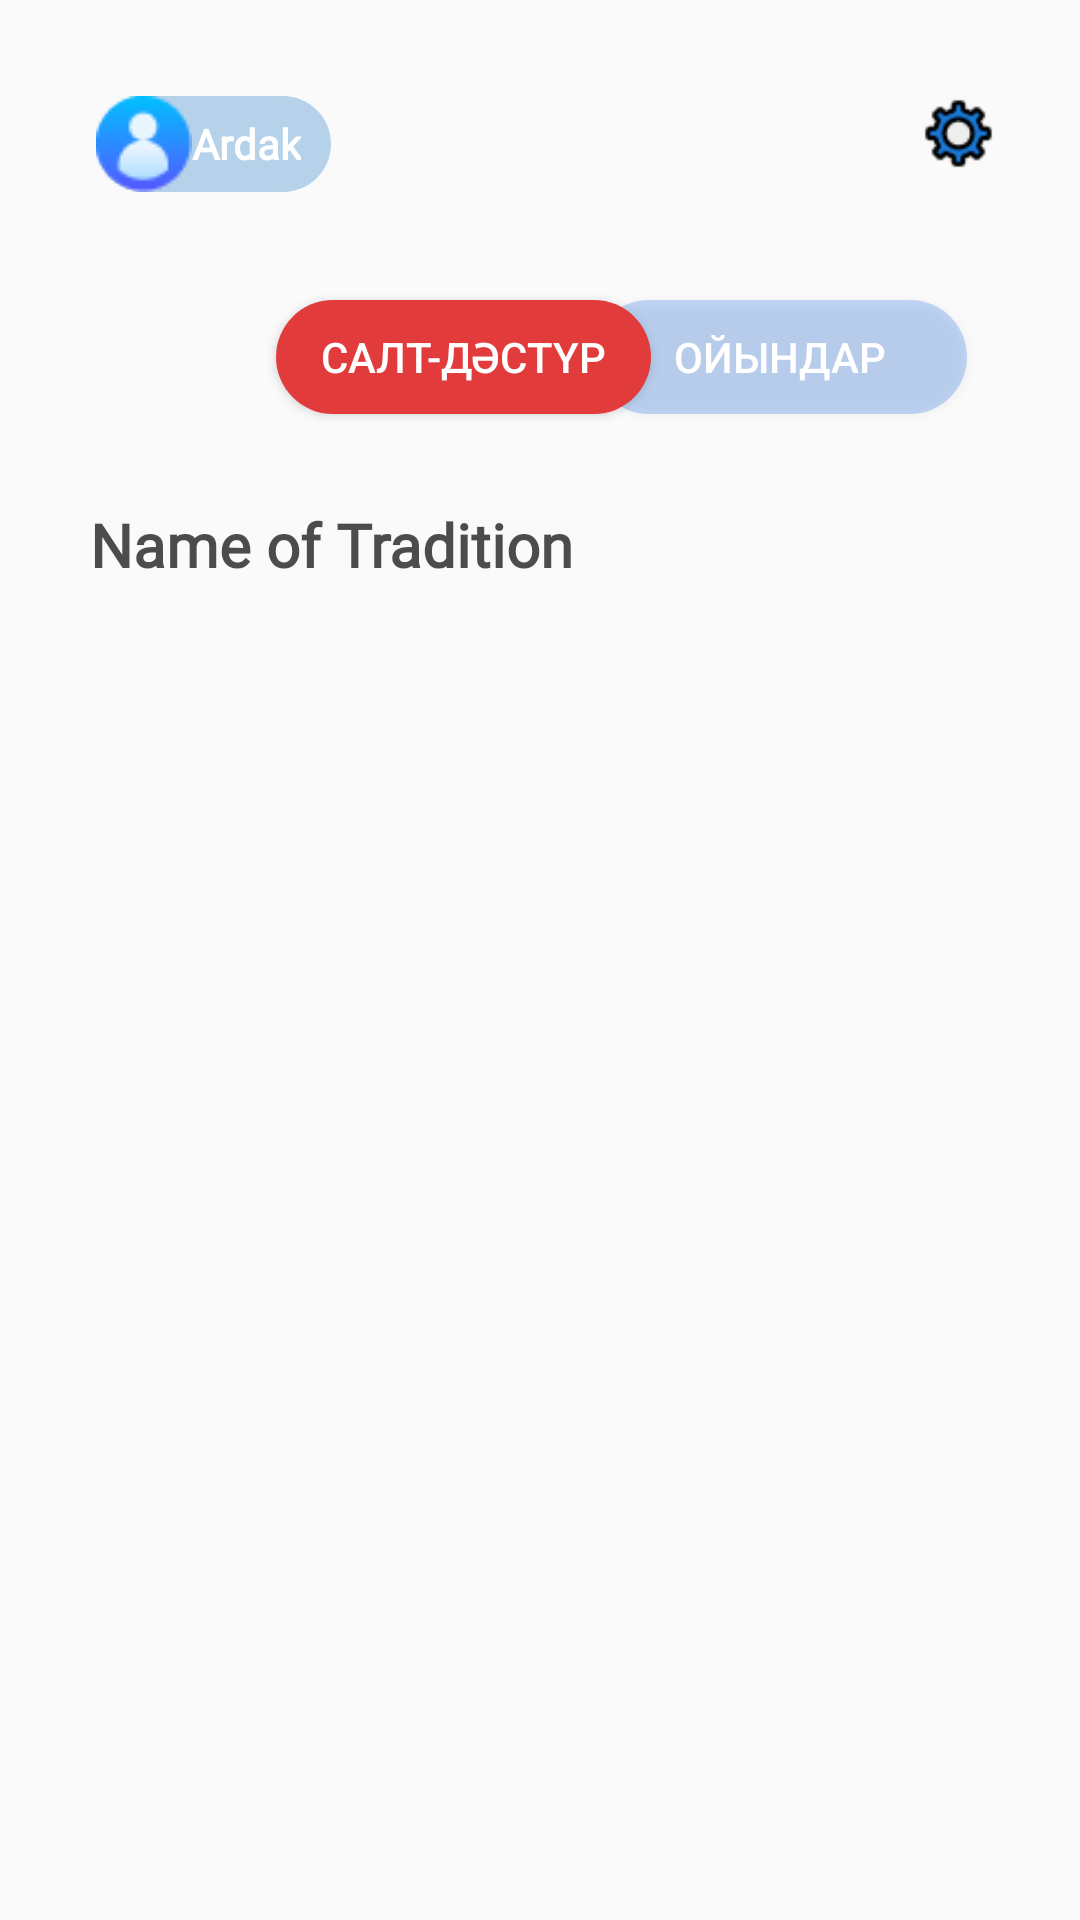

Screen size 1080 x 1920. Icon name, then its center in pixels as point (x, y):
settings: point (958, 133)
user: point (144, 144)
